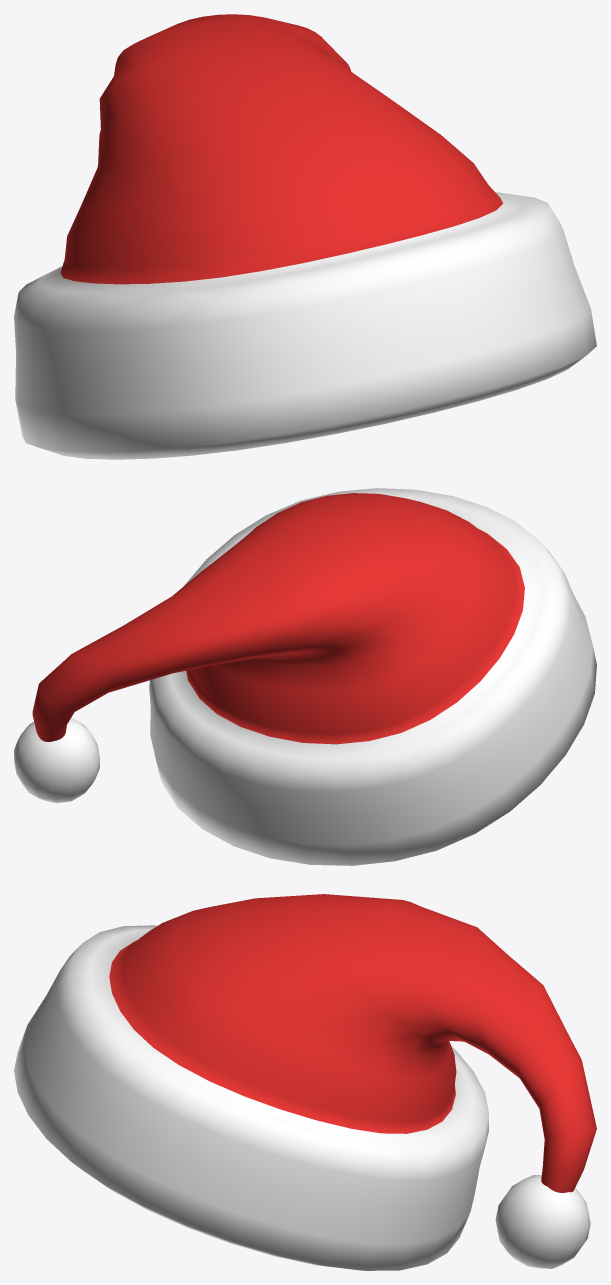
3 renders of one model, top to bottom at view 1: azimuth 30°, elevation 25°; view 2: azimuth 150°, elevation 25°; view 3: azimuth 270°, elevation 25°, orthographic. The views are drawn at different scales.
Visible parts, largest first — view 1: santa_hat; view 2: santa_hat; view 3: santa_hat.
Boxes of the visible parts, x1,y1,x2,y2 form: santa_hat: [14, 14, 596, 459]; santa_hat: [14, 488, 596, 865]; santa_hat: [14, 894, 596, 1270].
Size of the model in its own units: 2.29 by 1.55 by 2.67.
